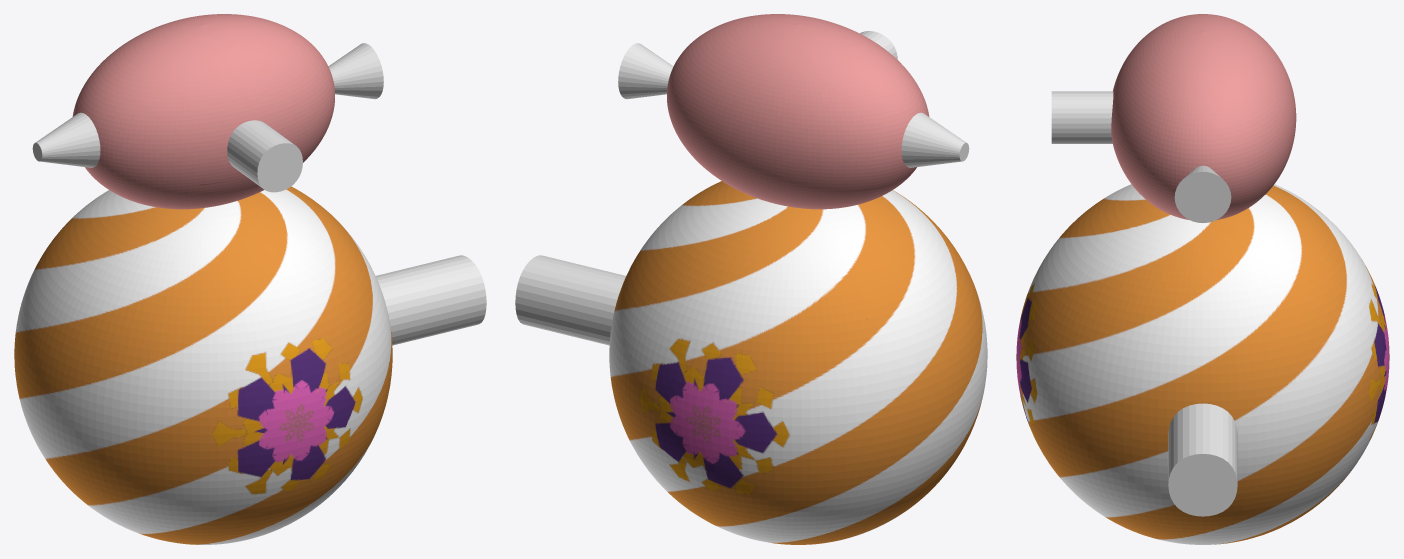
Rendered from BOD0_BMC2_BCC5_BPT3_FRC28_HEA1_HMC11_HCC3_HPT0_ELT2_ERT3_ELL0_ERL1_AP2_AAL0_AAR2_BEK1.fbx.
3 renders of one model, left to right at view 1: azimuth 30°, elevation 25°; view 2: azimuth 150°, elevation 25°; view 3: azimuth 270°, elevation 25°, orthographic.
Visible parts, largest first — view 1: Body, Arm, Beak, Ear, Ear.001; view 2: Body, Arm, Ear, Ear.001; view 3: Body, Arm, Beak, Ear.001.
Boxes of the visible parts, box(x1,y1,x2,y2) form: Body: box(14, 14, 392, 544); Arm: box(376, 255, 486, 345); Beak: box(227, 120, 302, 192); Ear: box(32, 112, 100, 167); Ear.001: box(328, 43, 383, 99); Body: box(609, 14, 987, 544); Arm: box(515, 255, 625, 345); Ear: box(901, 112, 969, 167); Ear.001: box(618, 43, 673, 99); Body: box(1016, 14, 1389, 544); Arm: box(1168, 403, 1237, 516); Beak: box(1051, 91, 1113, 143); Ear.001: box(1174, 165, 1231, 222).
Size of the model in its own units: 65 by 72.41 by 49.36.
1 material, 1 textured.
